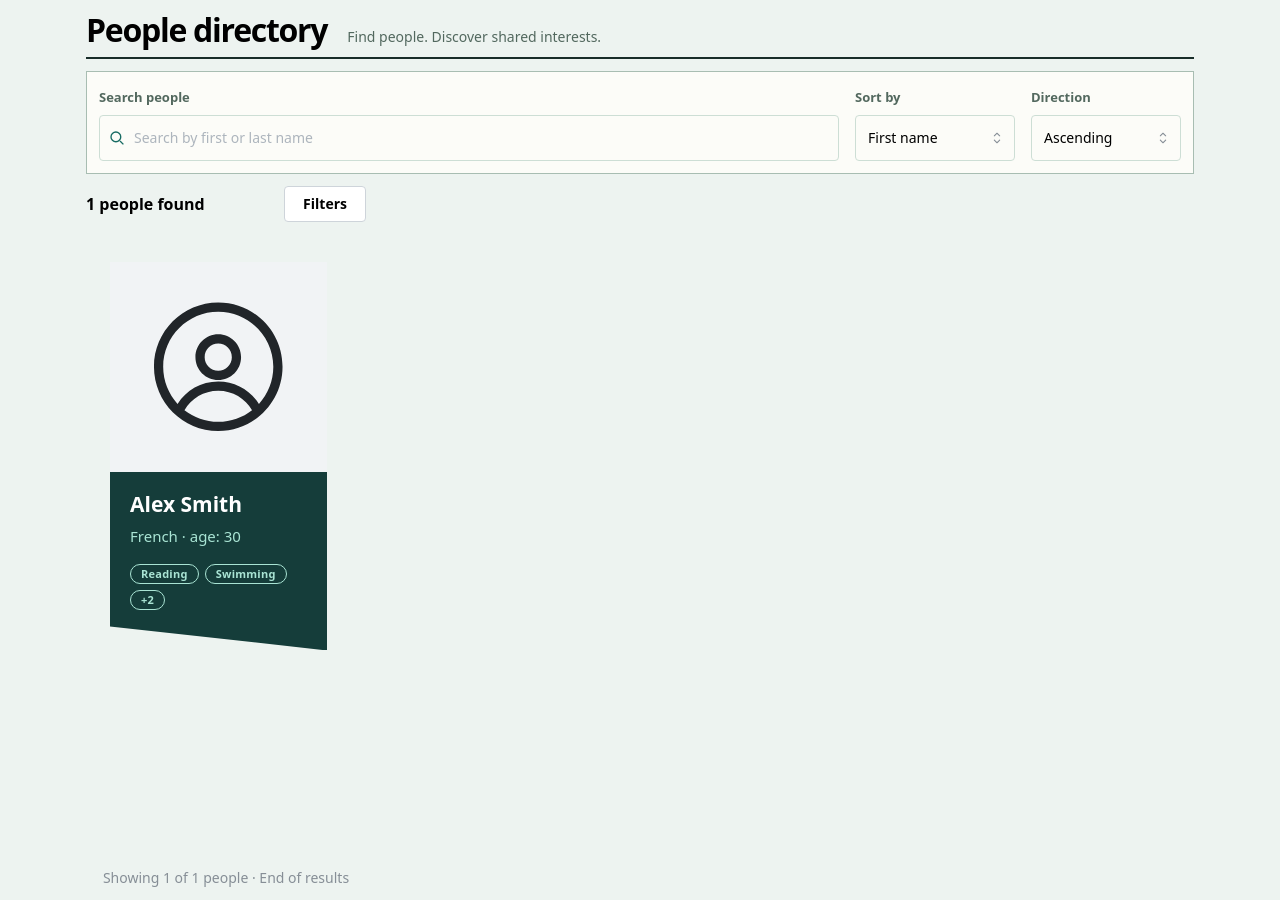
Test: opens and closes the mobile filter drawer
Expected: the element showing "Alex Smith French · age: 30 Reading Swimming +2" is shown, [110,262,327,650]
Click the button "Filters" at (325, 204), box [284,186,366,222]
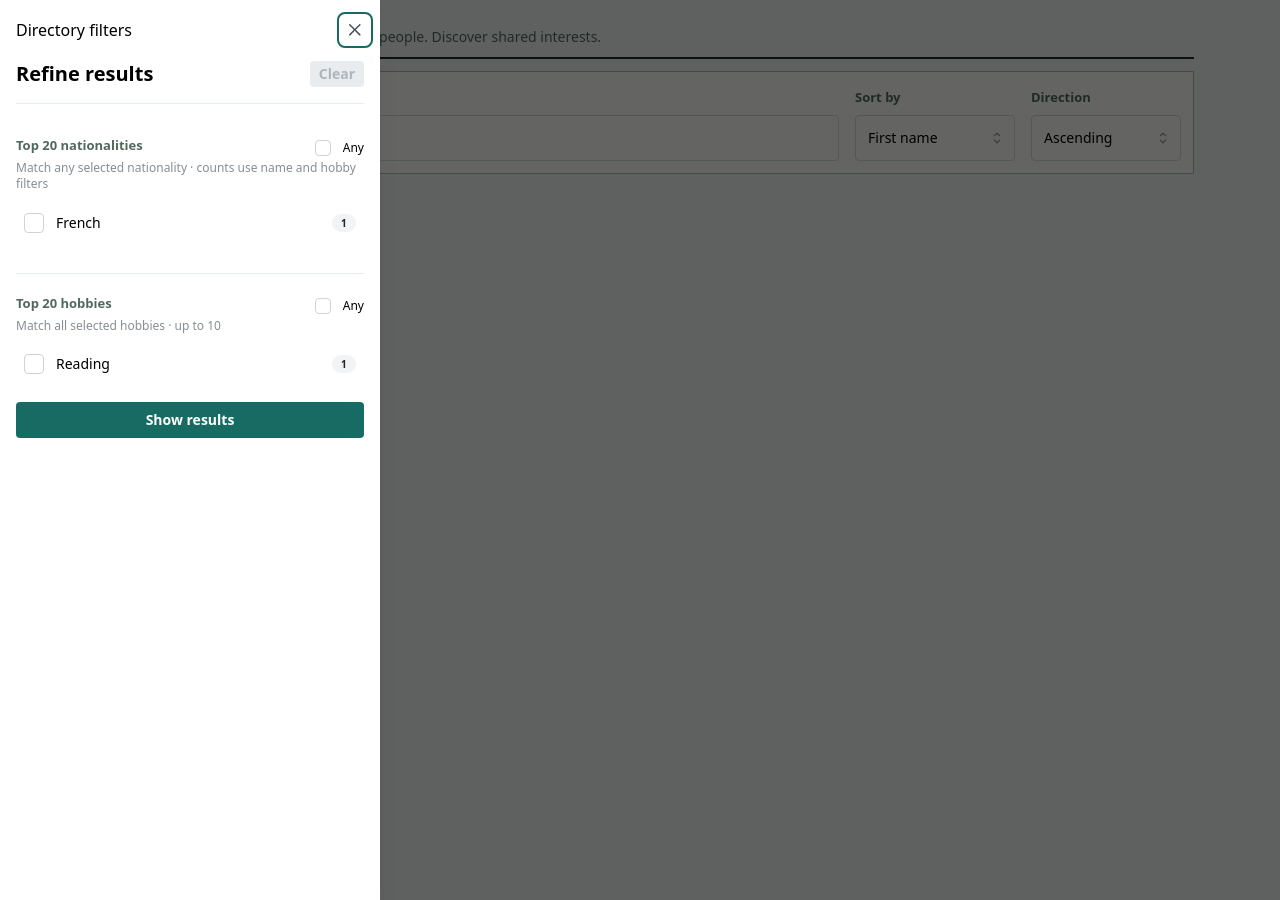
Click the checkbox labelled "Reading" at (34, 364), box [24,354,44,374]
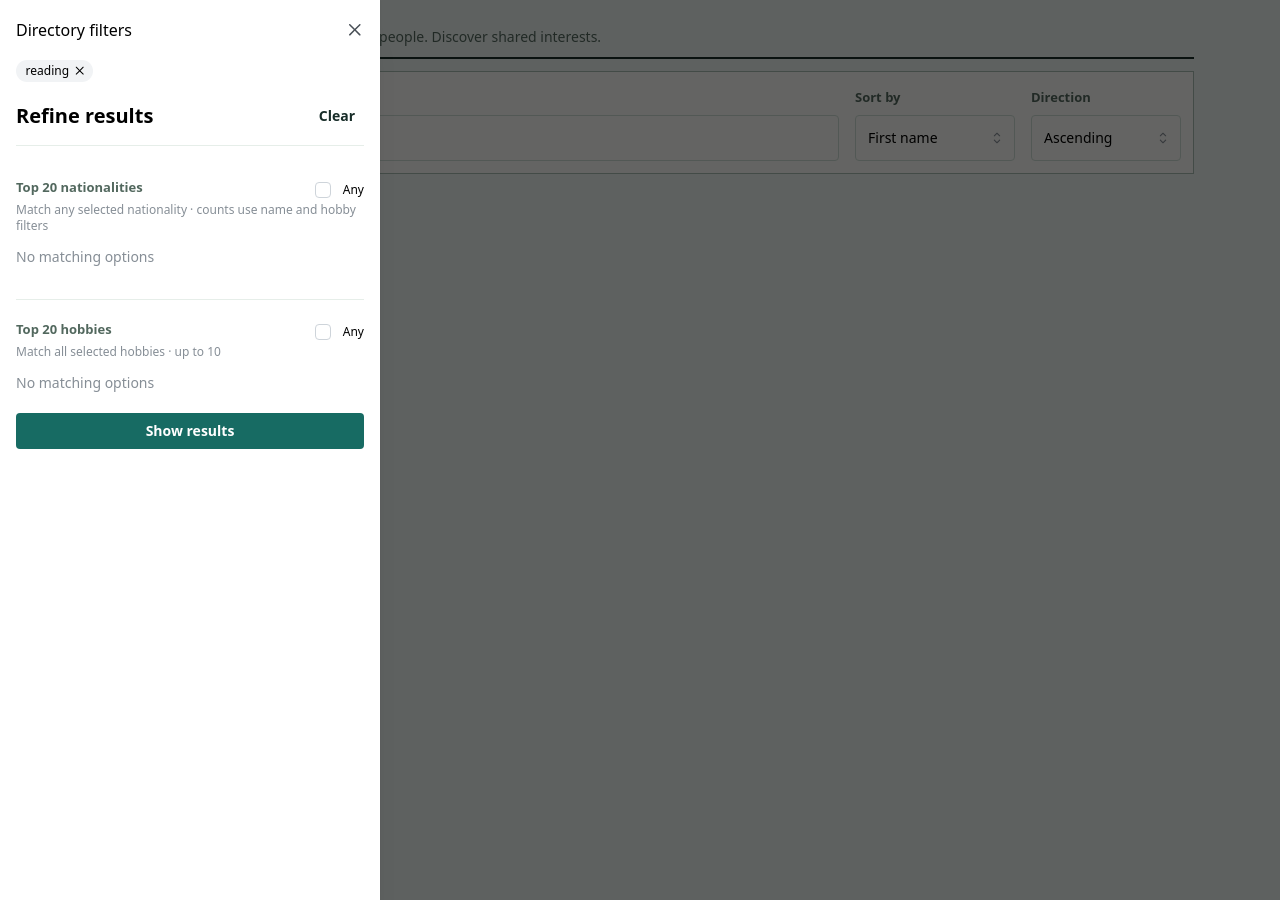
Expected: the text "reading" below "1 people found" is shown, [96,282,139,299]
Click the button "Show results" at (190, 431), box [16,413,364,449]
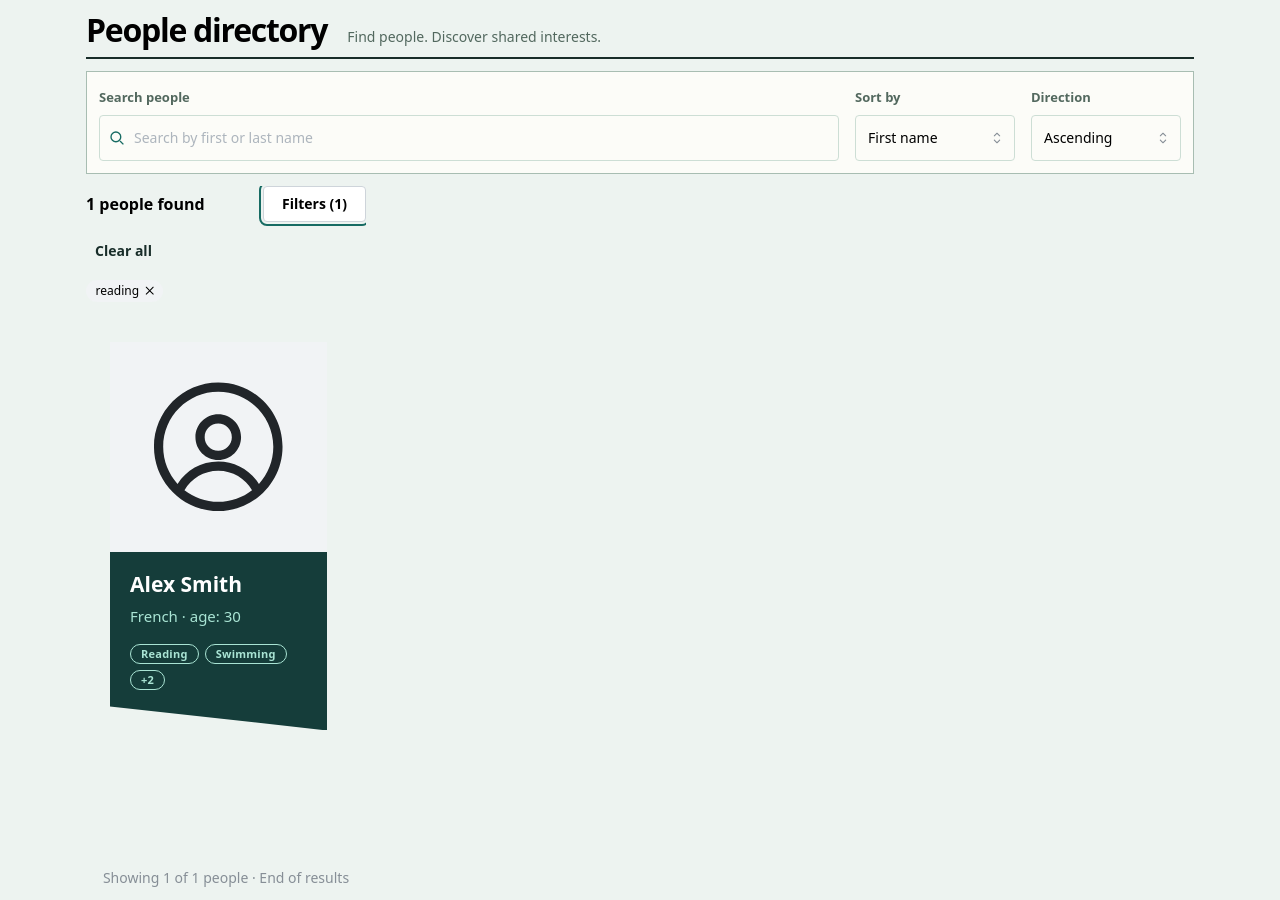
Now the dialog is gone
